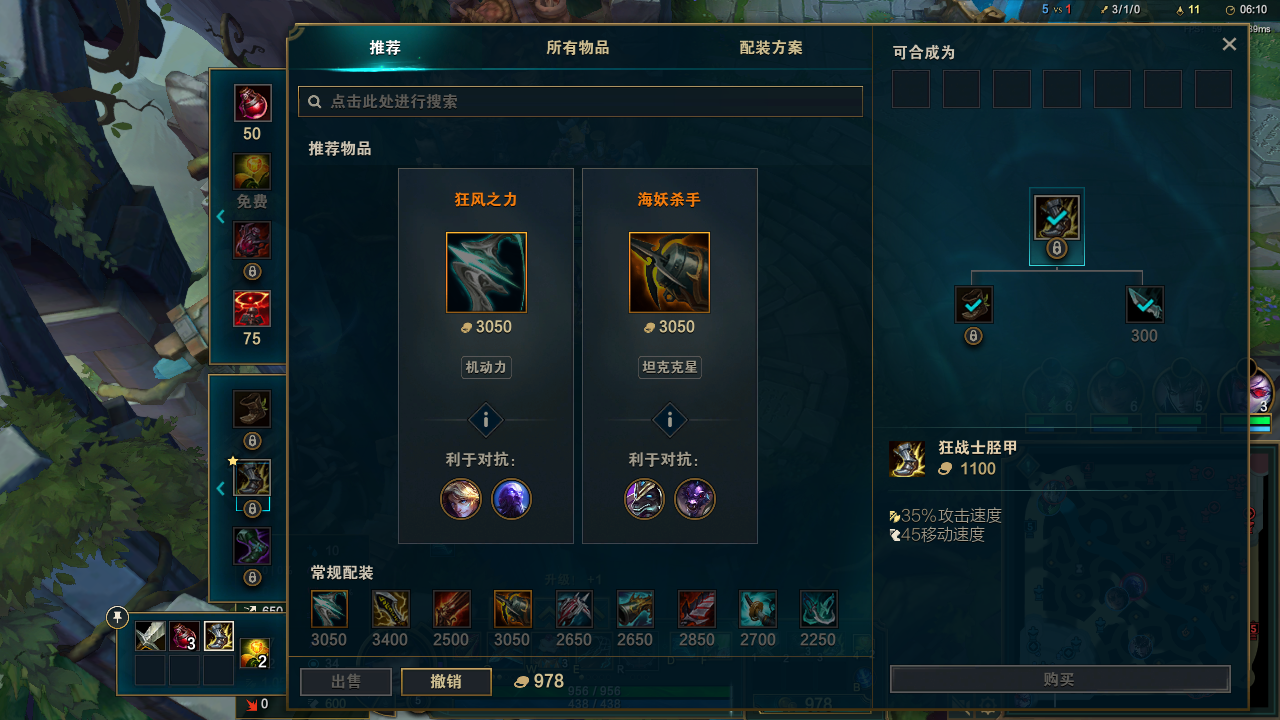GTH: (443, 392, 528, 440), (626, 398, 711, 437)
TJJM: (327, 34, 447, 75)
